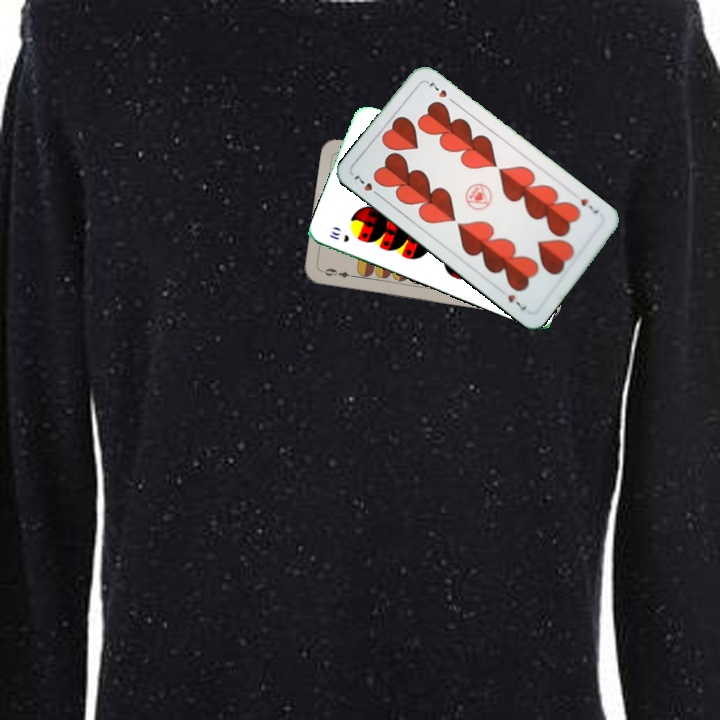E9: (320, 264, 358, 280)
H7: (350, 169, 384, 200), (577, 194, 602, 217)
S10: (325, 227, 352, 245)
